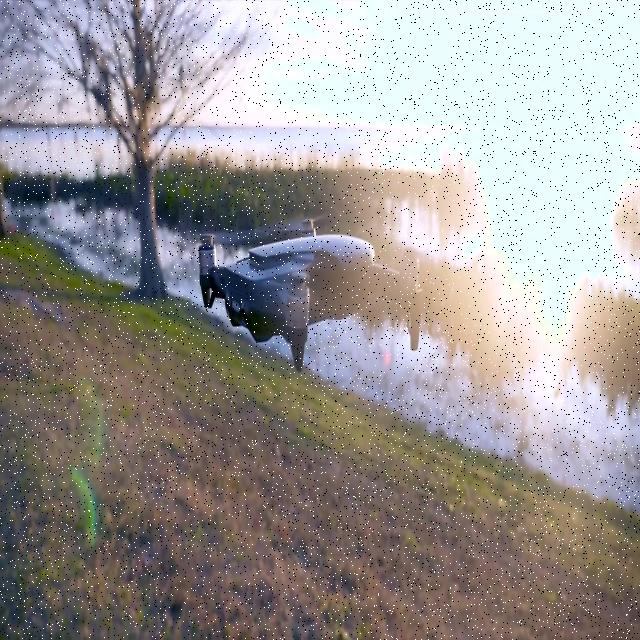UAV: (197, 216, 423, 373)
